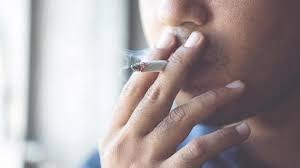smoke: (130, 60, 190, 73)
